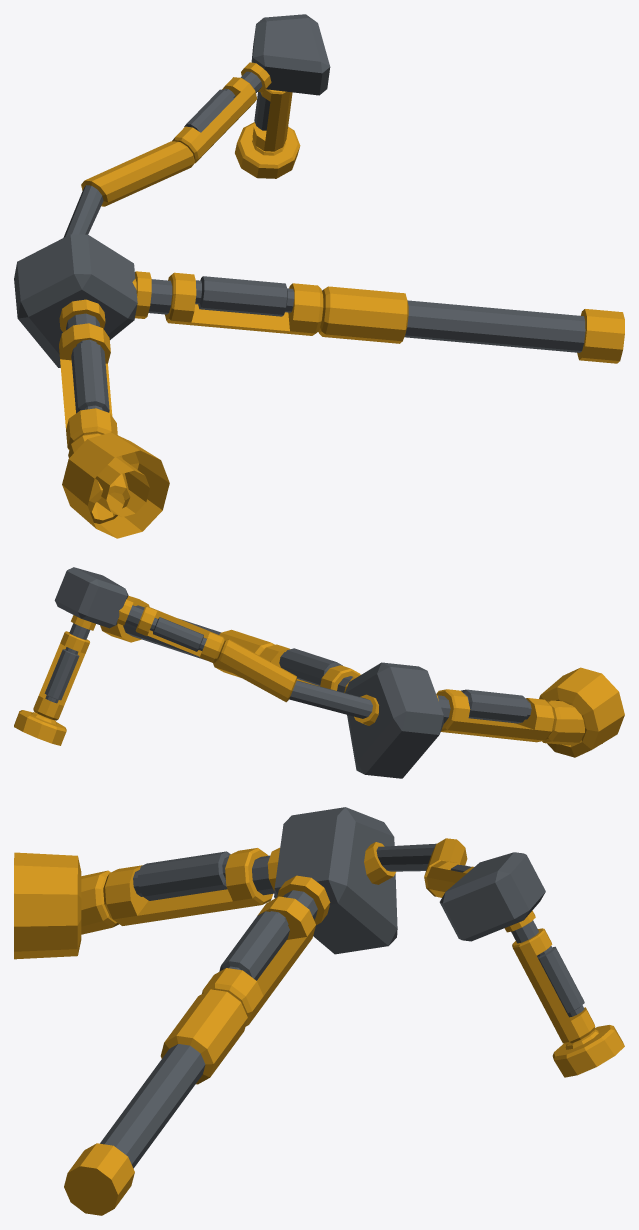
Rendered from Fighter_03_Pipes_05_Yellow.fbx.
3 views of the same model, one above another, from view 1: azimuth 30°, elevation 25°; view 2: azimuth 150°, elevation 25°; view 3: azimuth 270°, elevation 25° (orthographic). The views are drawn at different scales.
Parts seen in each view (by area): view 1: Fighter_03_Pipes_05_Yellow; view 2: Fighter_03_Pipes_05_Yellow; view 3: Fighter_03_Pipes_05_Yellow.
Part boxes in pixels (x1,y1,x2,y2): Fighter_03_Pipes_05_Yellow: (14,14,624,538); Fighter_03_Pipes_05_Yellow: (14,567,624,778); Fighter_03_Pipes_05_Yellow: (14,807,624,1215).
Size of the model in its own units: 462 by 203 by 377.
Materials: 1 (1 with a texture image).
